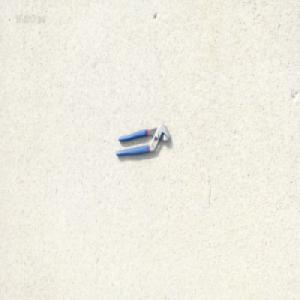Pliers: (113, 122, 169, 158)
